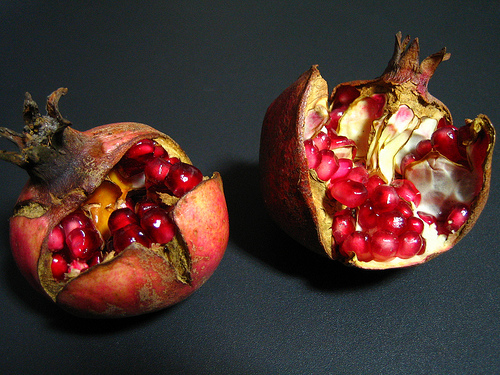pomogranate: (258, 29, 497, 274), (0, 87, 232, 333)
